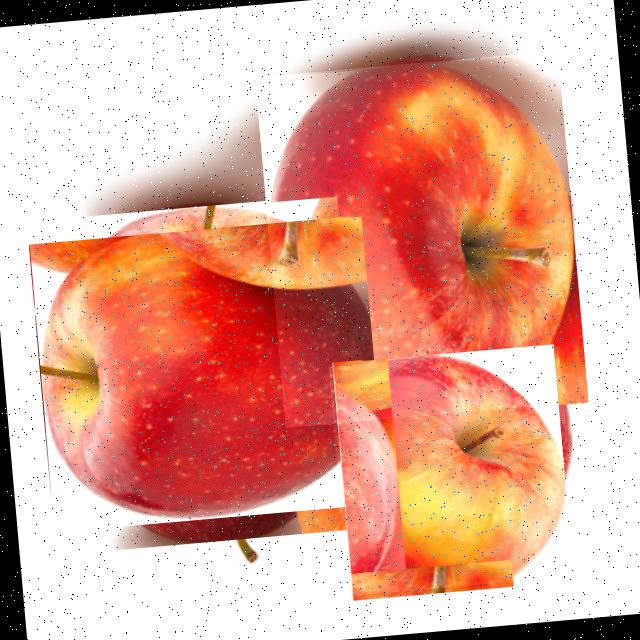Fresh Apple: (255, 49, 590, 428), (37, 203, 377, 543), (328, 345, 579, 596)
